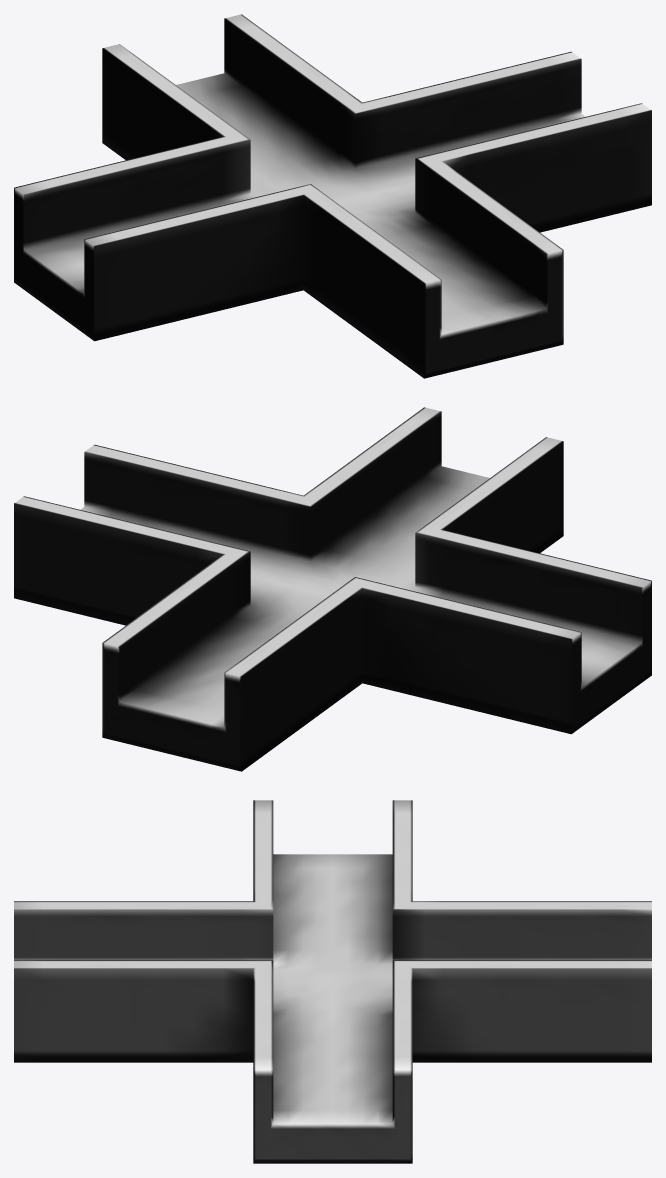
The picture shows the model from 3 angles, top to bottom: view 1: azimuth 30°, elevation 25°; view 2: azimuth 150°, elevation 25°; view 3: azimuth 270°, elevation 25°; orthographic projection.
Parts seen in each view (by area): view 1: defaultobject; view 2: defaultobject; view 3: defaultobject.
Boxes of the visible parts, box(x1,y1,x2,y2) form: defaultobject: box(14, 14, 651, 378); defaultobject: box(14, 407, 651, 771); defaultobject: box(14, 800, 651, 1163).
Bounding box in the file's own units: 1 × 0.1625 × 1.
1 material, 1 textured.
